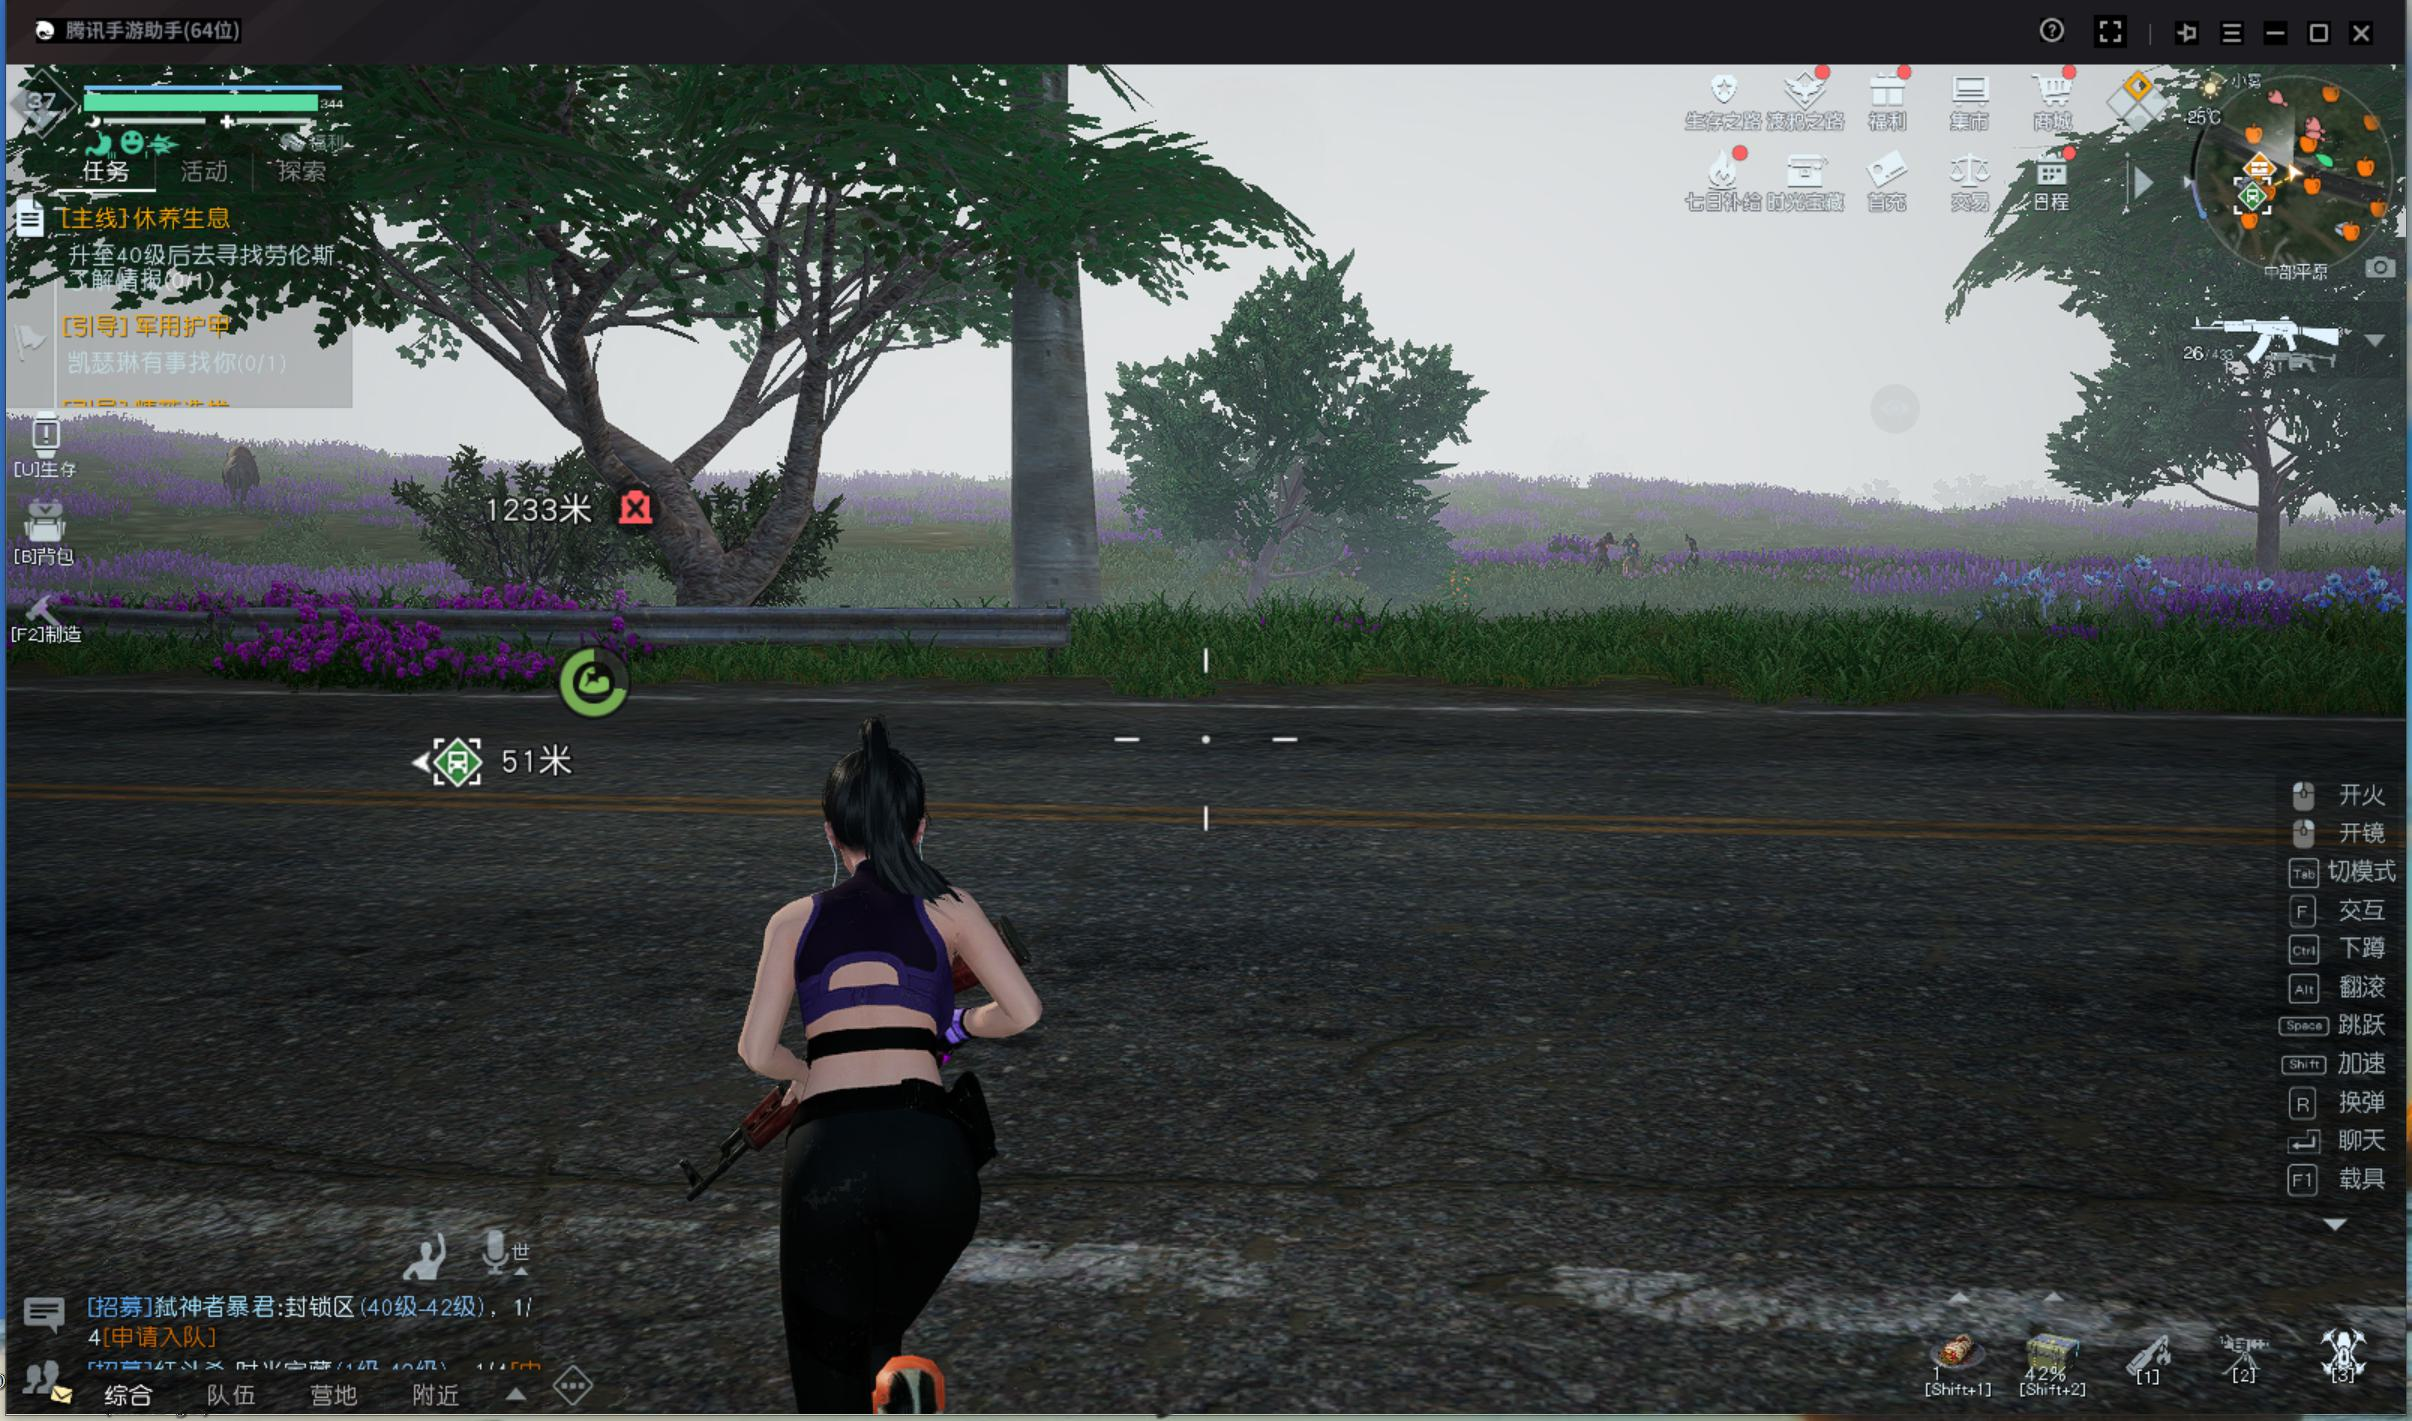tree: (996, 338, 1115, 617), (2243, 465, 2295, 584)
